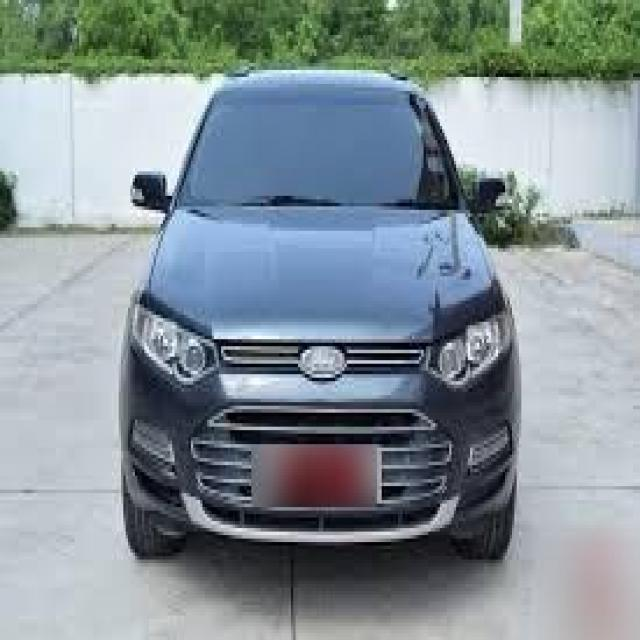front_bumper: (120, 304, 519, 545)
front_glass: (178, 88, 473, 208)
front_left_light: (426, 305, 511, 387)
front_right_light: (131, 299, 222, 385)
hood: (150, 201, 496, 345)
left_mirror: (467, 176, 508, 215)
right_mirror: (131, 171, 173, 215)
